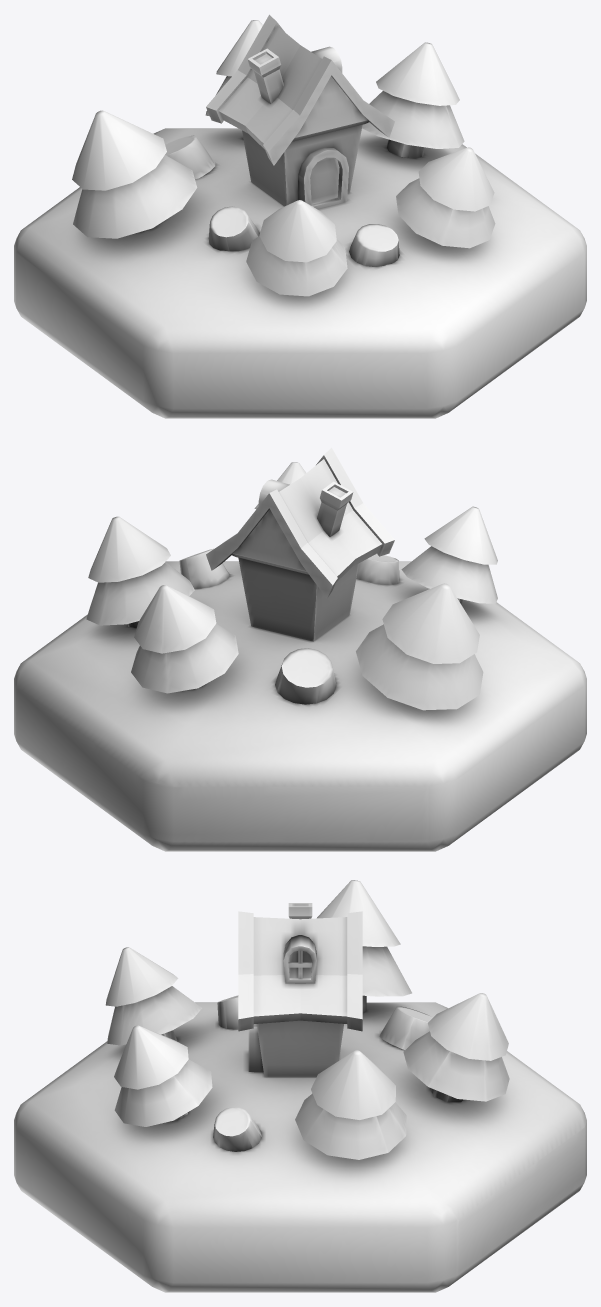
File: 1_lumbermill_bake.dae
3 views of the same model, one above another, from view 1: azimuth 30°, elevation 25°; view 2: azimuth 150°, elevation 25°; view 3: azimuth 270°, elevation 25° (orthographic).
Visible parts, largest first — view 1: drwal; view 2: drwal; view 3: drwal.
Part boxes in pixels (x1,y1,x2,y2): drwal: (14,14,586,418); drwal: (14,447,586,851); drwal: (14,880,586,1292).
Bounding box in the file's own units: 1 × 1.13 × 0.6139.
